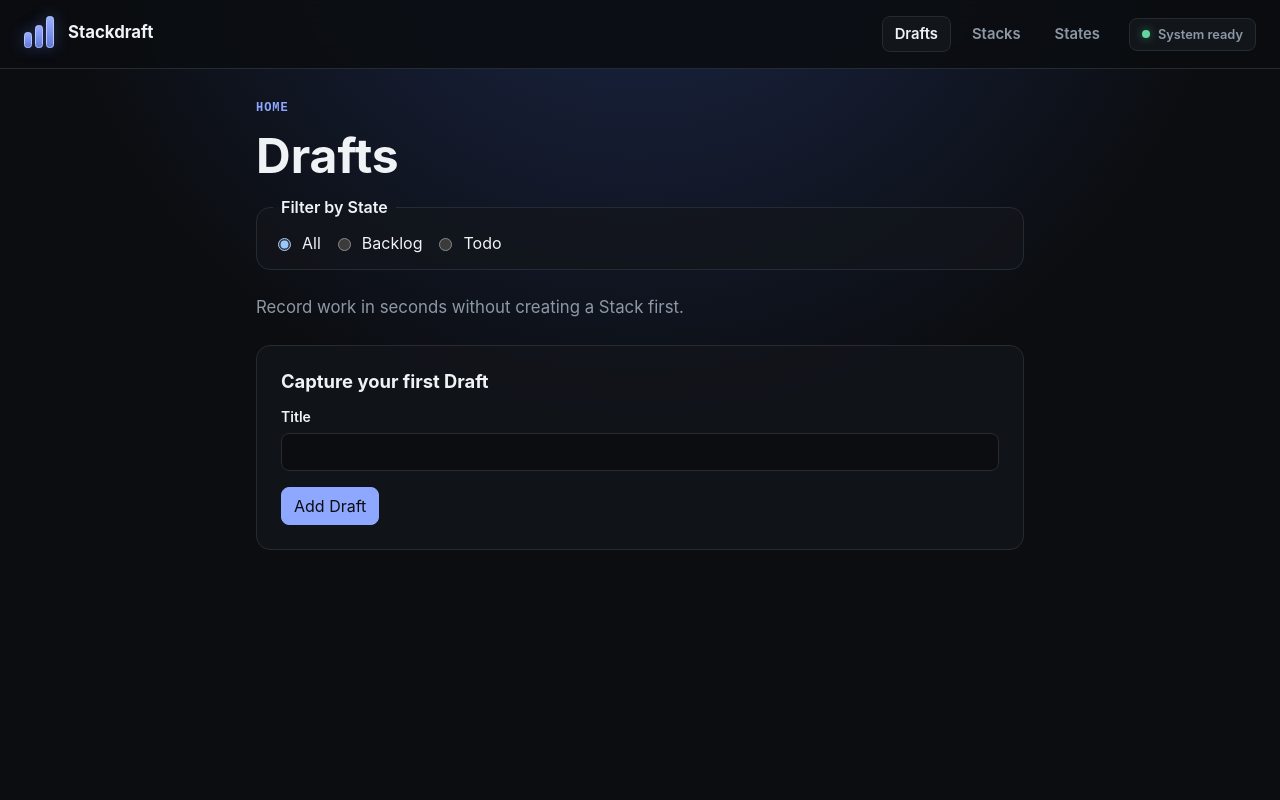
Test: draft list screen › submits on Enter and prevents duplicate submissions
The image size is (1280, 800).
Type "Entered draft" into the field labelled "Title" at (640, 452), box [281, 433, 999, 471]
Then press Enter
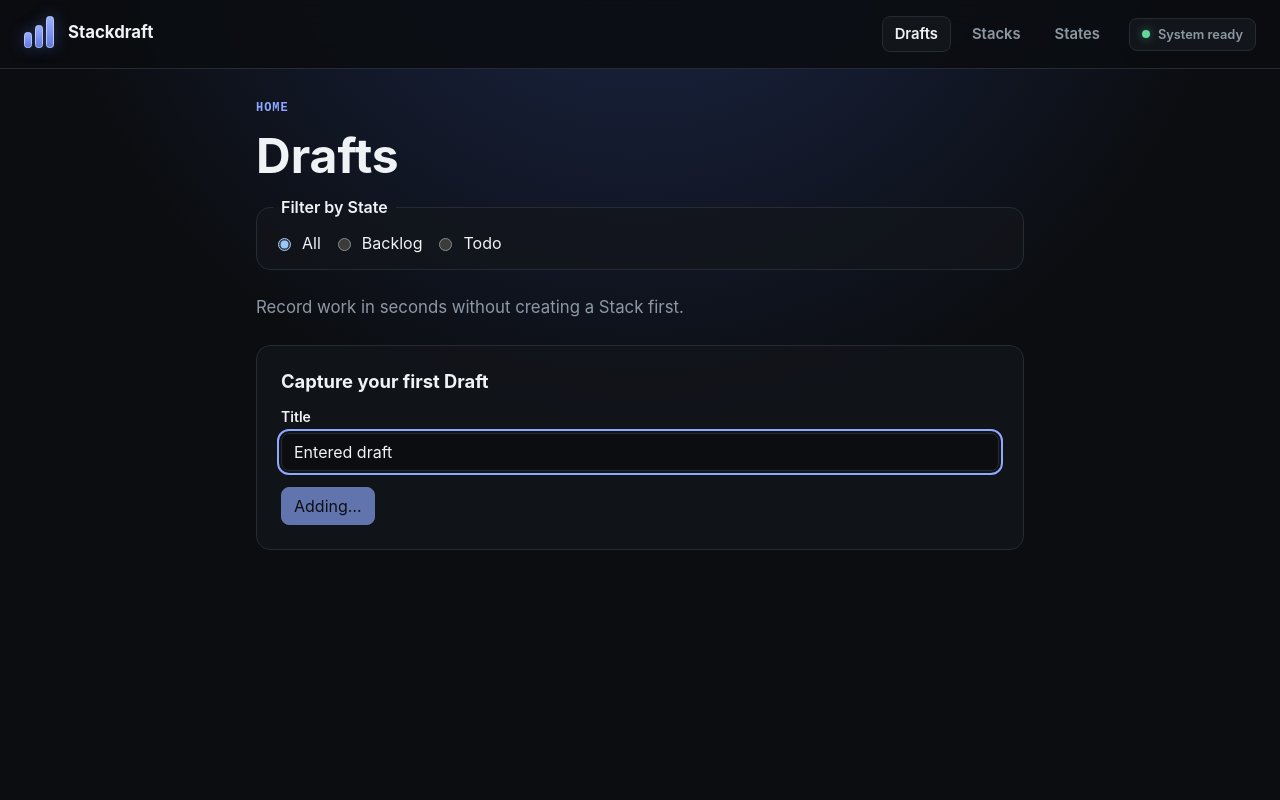
Now the button named "Add Draft" is disabled
Click the button named "Add Draft" at (328, 506), box [281, 487, 375, 525]
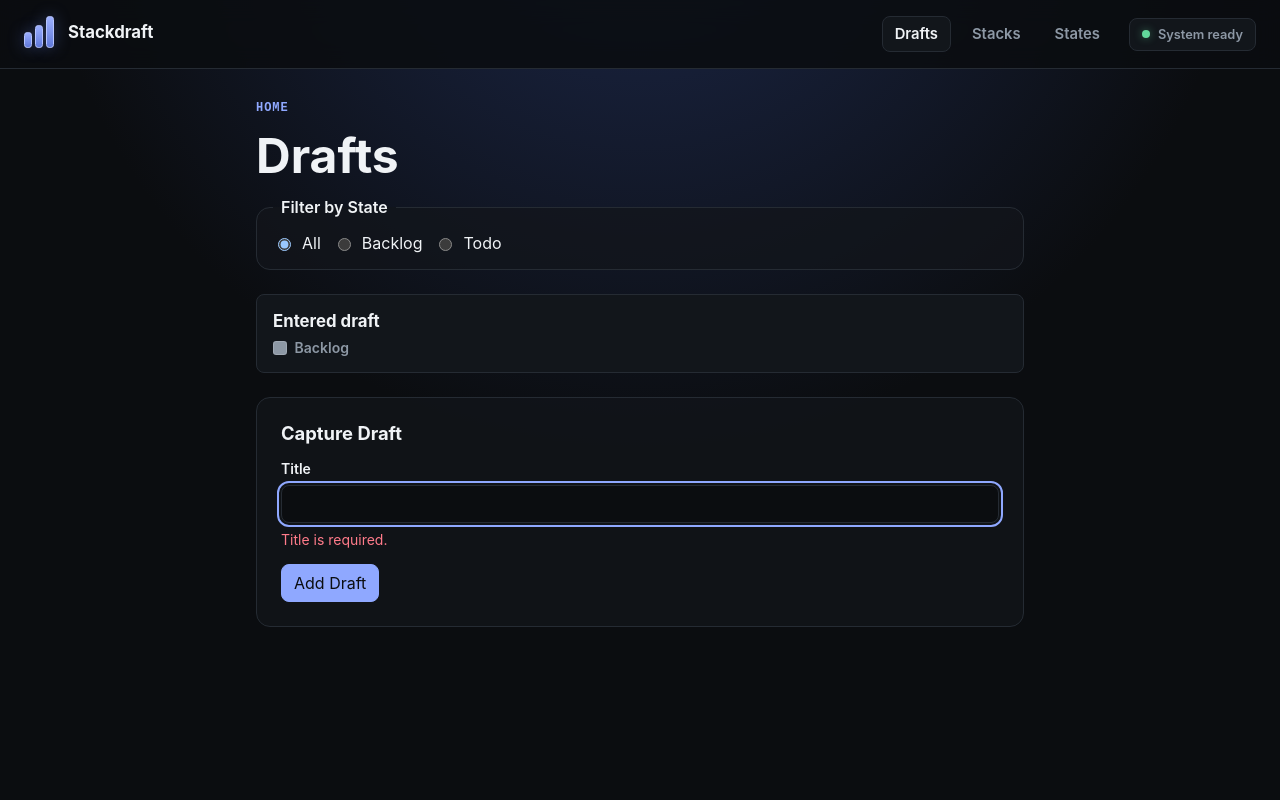
Now the link "Entered draft Backlog" is shown, box [273, 311, 380, 356]
